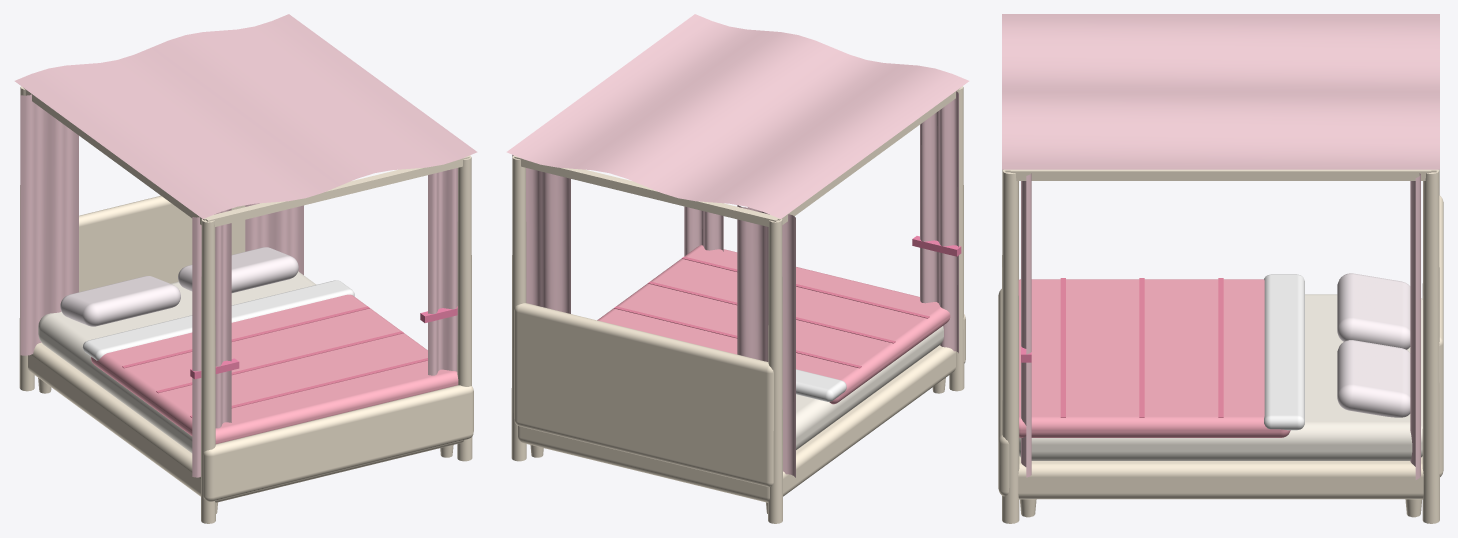
Rendered from bed-canopy.glb.
The picture shows the model from 3 angles, left to right: view 1: azimuth 30°, elevation 25°; view 2: azimuth 150°, elevation 25°; view 3: azimuth 270°, elevation 25°; orthographic projection. The views are drawn at different scales.
Size of the model in its own units: 2.17 by 2.27 by 2.54.
